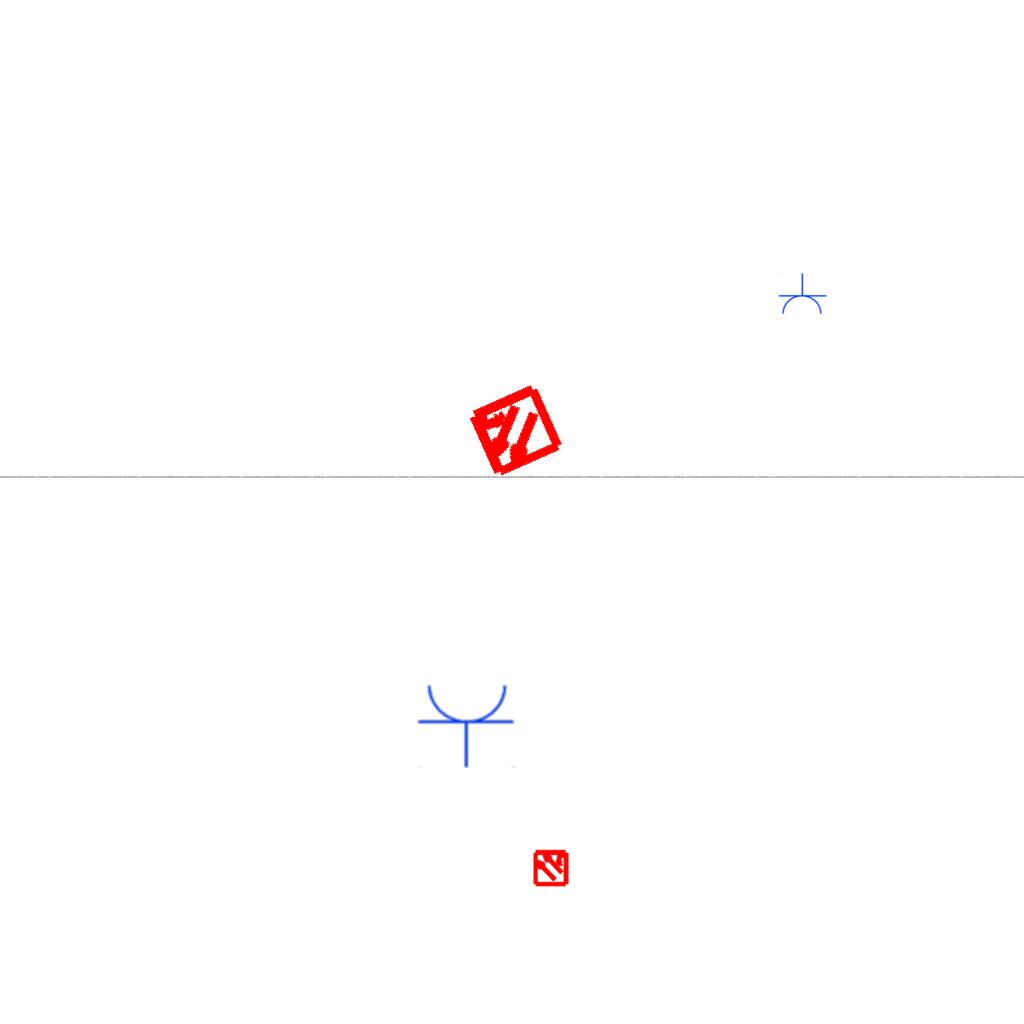OT_Multisensormelder_(Kombination_RMO_WMD): (438, 356, 589, 507), (523, 839, 579, 895)
Schukosteckdose_einfach: (417, 681, 517, 768), (777, 273, 827, 316)
